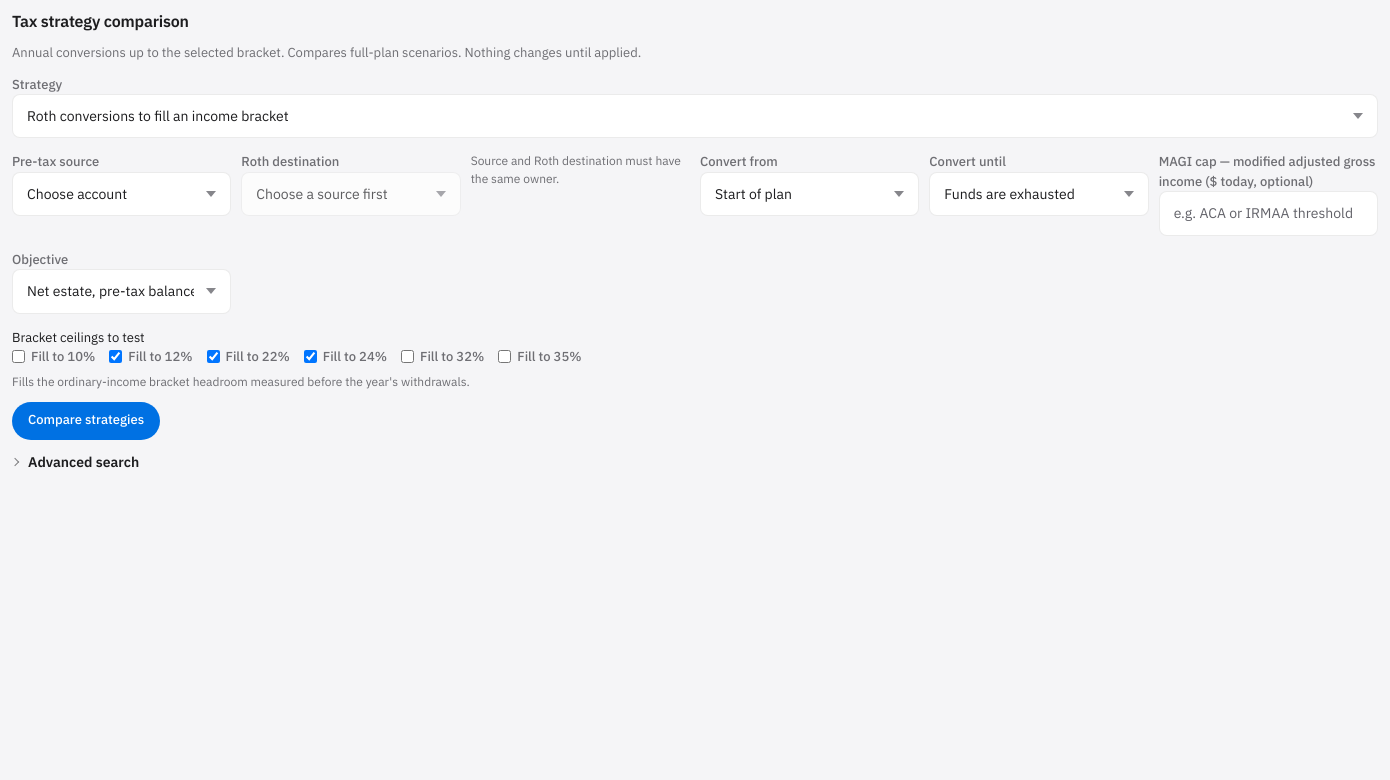
TaxStrategyOptimizer › removes obsolete results after changing comparison inputs
This screenshot has width=1390, height=780.
Select "IRA (Primary person)" in the dropdown labelled "Pre-tax source" at (122, 194), box [12,172,231,216]
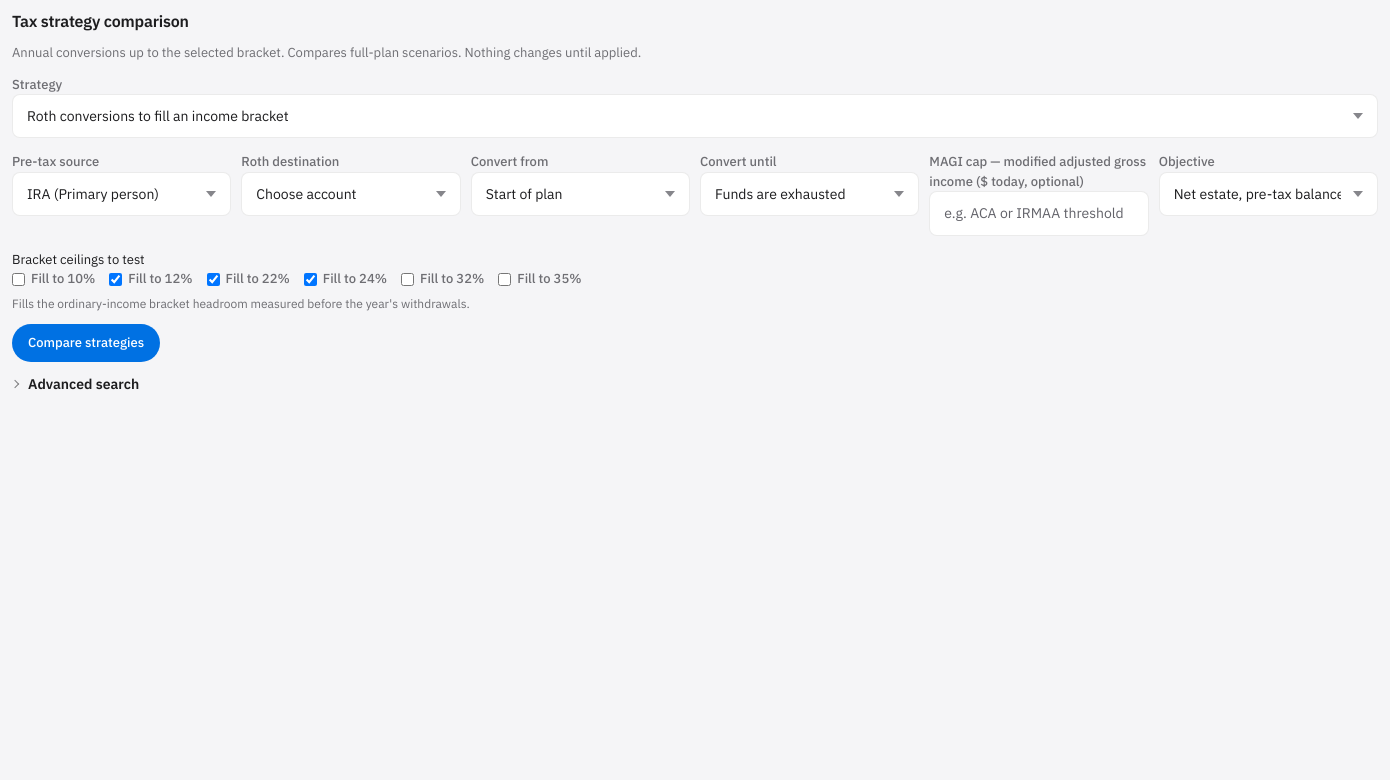
Select "Roth (Primary person)" in the dropdown labelled "Roth destination" at (351, 194), box [241,172,461,216]
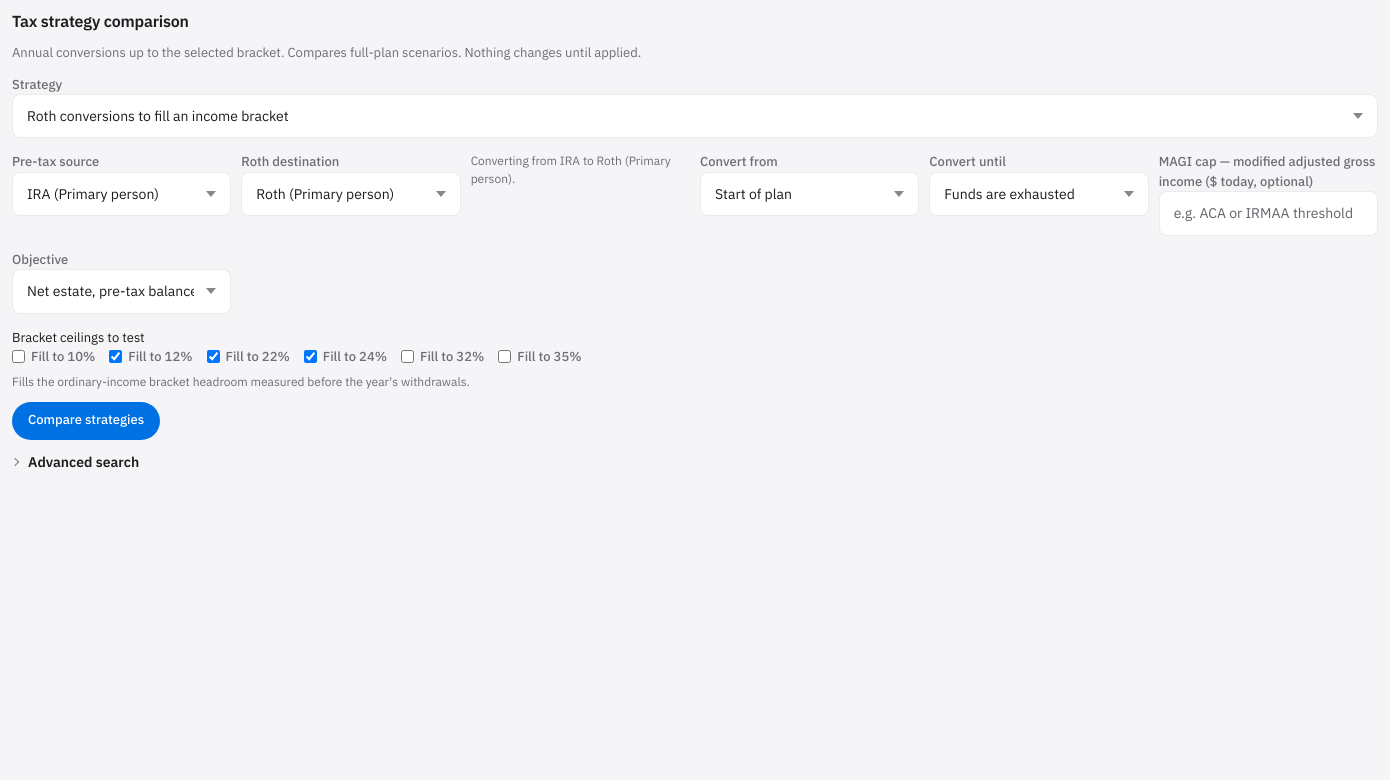
Click the button "Compare strategies" at (86, 421), box [12,402,160,440]
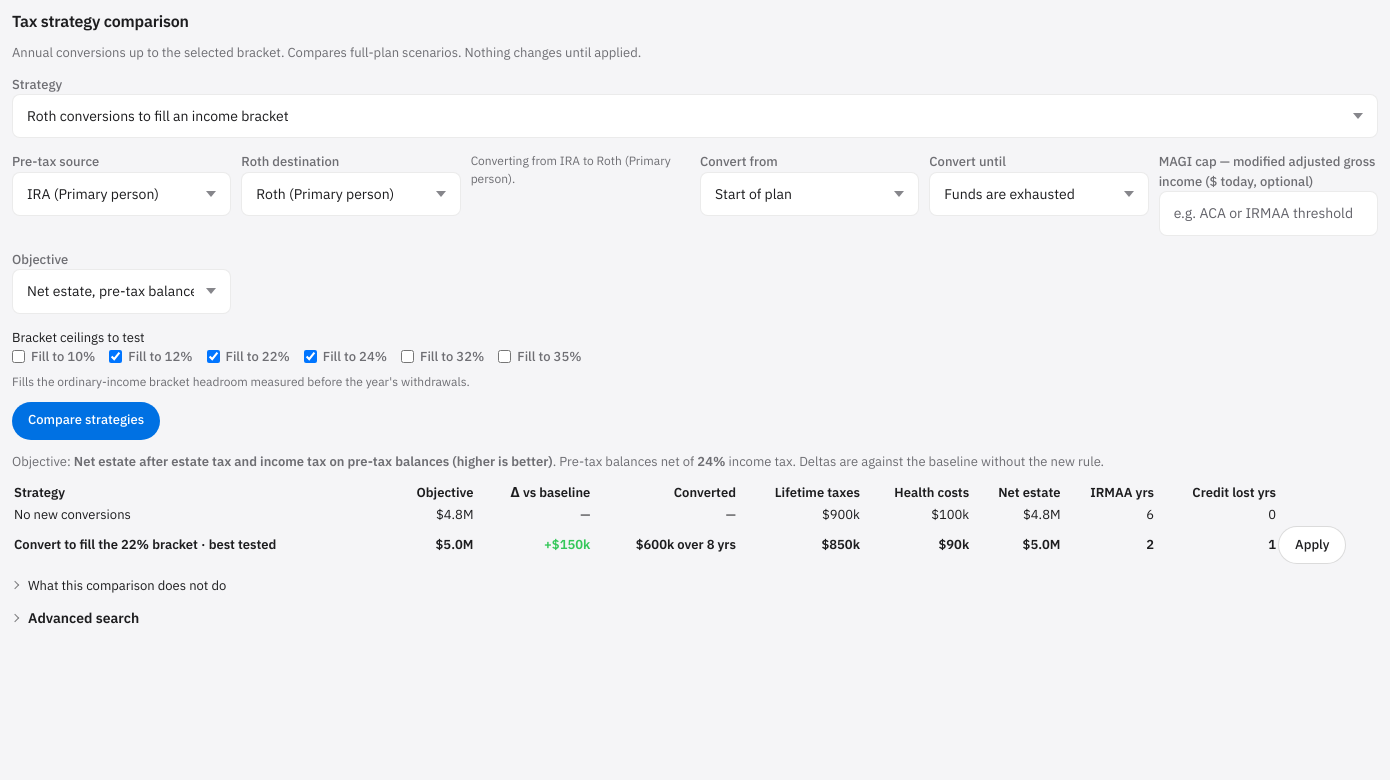
Expected: the button "Apply" is enabled, [1278,526,1346,564]
Type "80000" into the field labelled "MAGI cap" at (1268, 214), box [1159,192,1378,236]
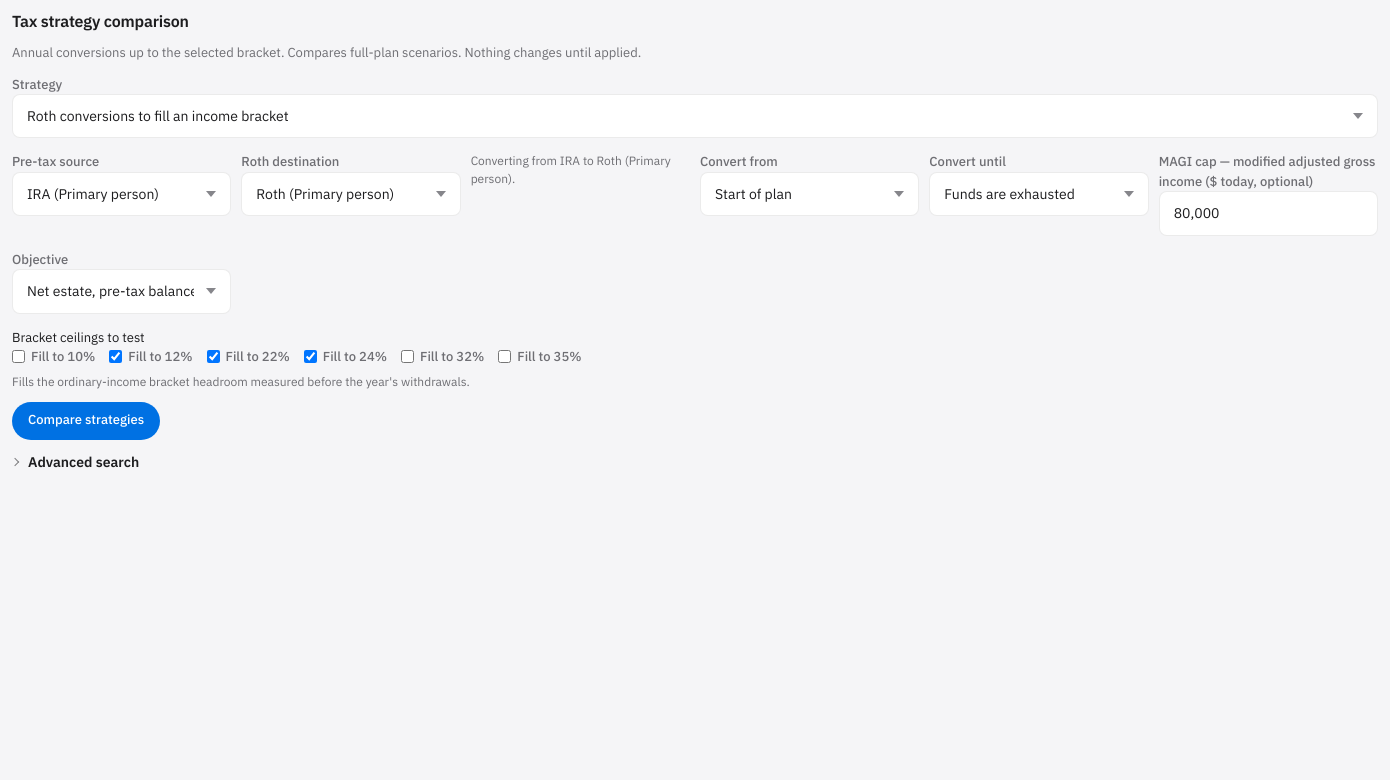
Expected: the button "Apply" is gone
